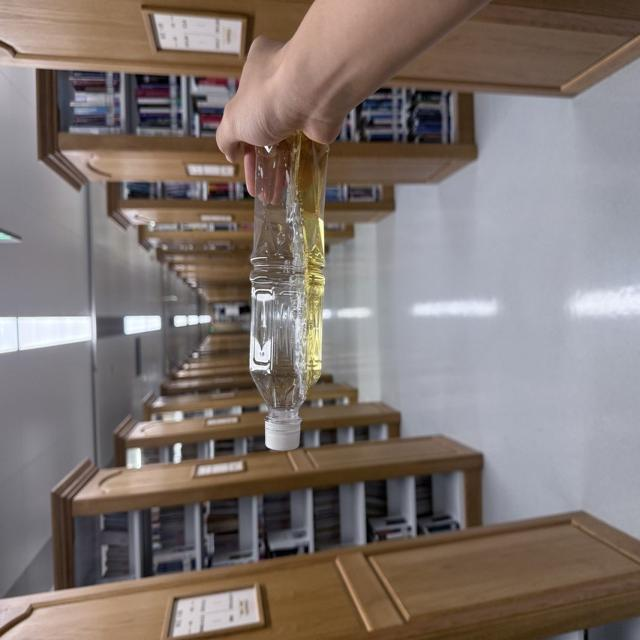low: (249, 132, 328, 450)
